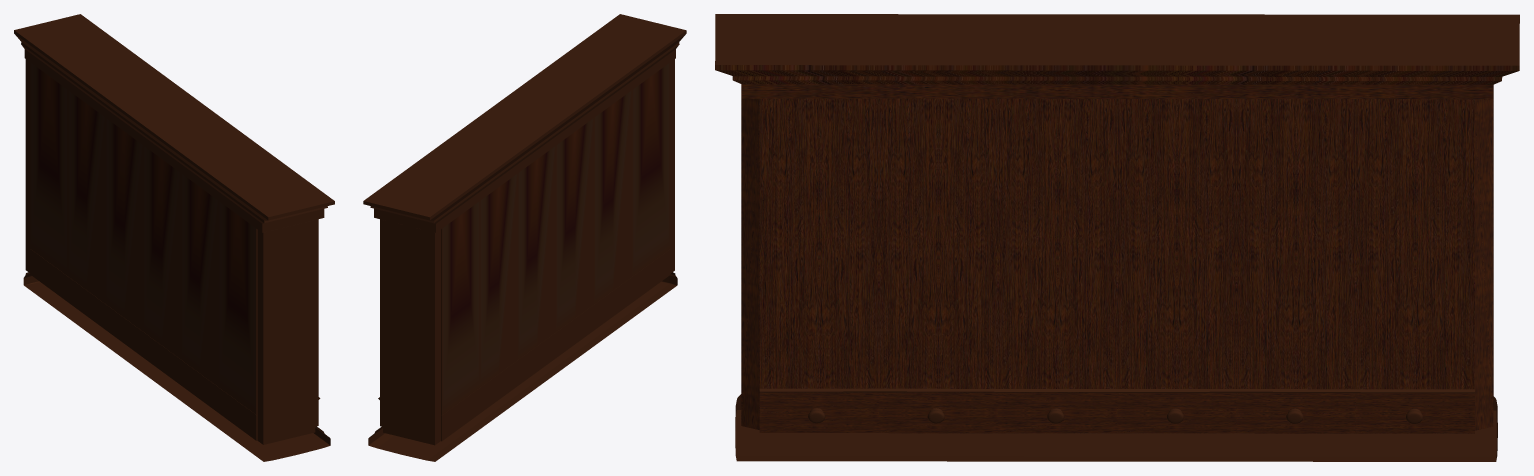
The model's file is commode.dae.
The picture shows the model from 3 angles, left to right: view 1: azimuth 30°, elevation 25°; view 2: azimuth 150°, elevation 25°; view 3: azimuth 270°, elevation 25°; orthographic projection. The views are drawn at different scales.
Visible parts, largest first — view 1: Komode; view 2: Komode; view 3: Komode.
Part boxes in pixels (box(x1,y1,x2,y2)): Komode: box(14, 14, 334, 461); Komode: box(363, 14, 686, 461); Komode: box(715, 14, 1519, 461).
Bounding box in the file's own units: 1.3 × 8 × 4.34.
Materials: 1 (1 with a texture image).
